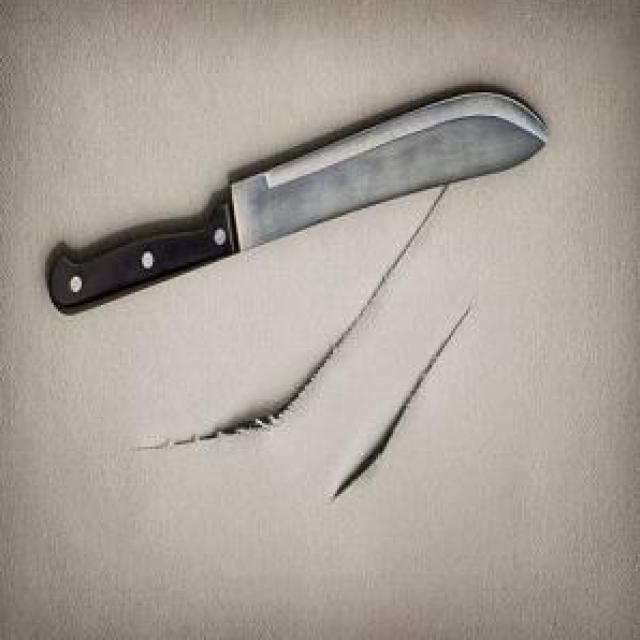knife: (45, 88, 549, 318)
